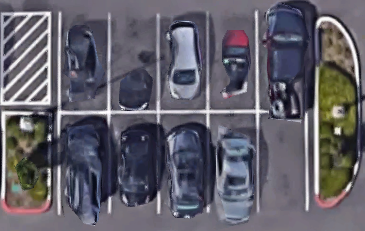Occupied: (59, 112, 110, 215), (59, 11, 109, 113), (208, 112, 258, 213), (207, 12, 258, 111), (109, 12, 158, 112), (158, 12, 207, 112), (159, 113, 208, 213), (110, 112, 158, 214), (257, 12, 306, 111)
Vacant: (258, 111, 307, 212)
